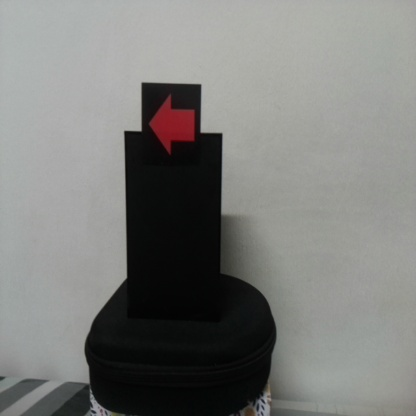id_4: (142, 82, 201, 166)
